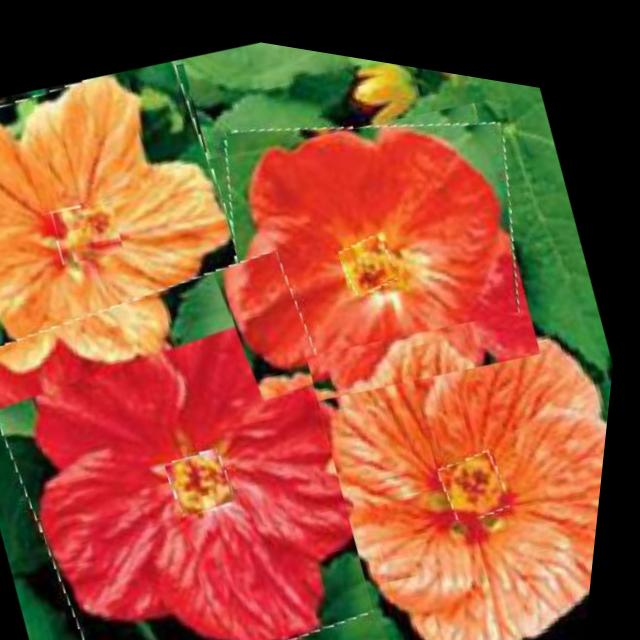Flower: (0, 201, 451, 640), (175, 37, 582, 450), (288, 242, 624, 640), (0, 26, 293, 439), (50, 187, 137, 272), (442, 426, 526, 514), (170, 432, 252, 518), (338, 215, 409, 290)
